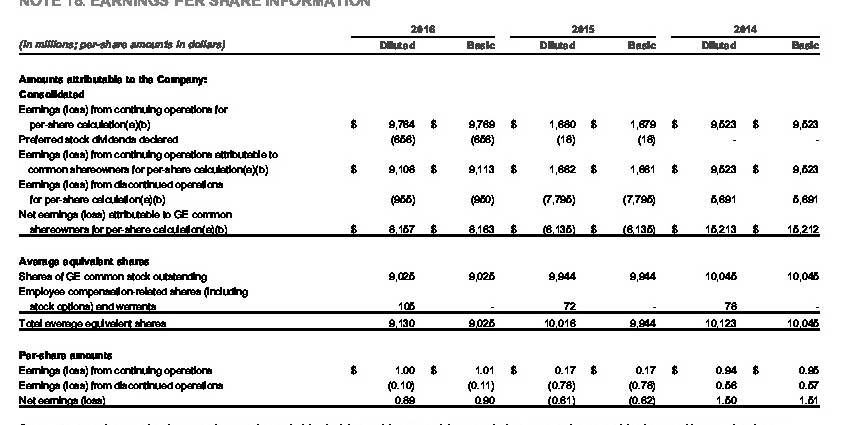table: (0, 0, 844, 425)
